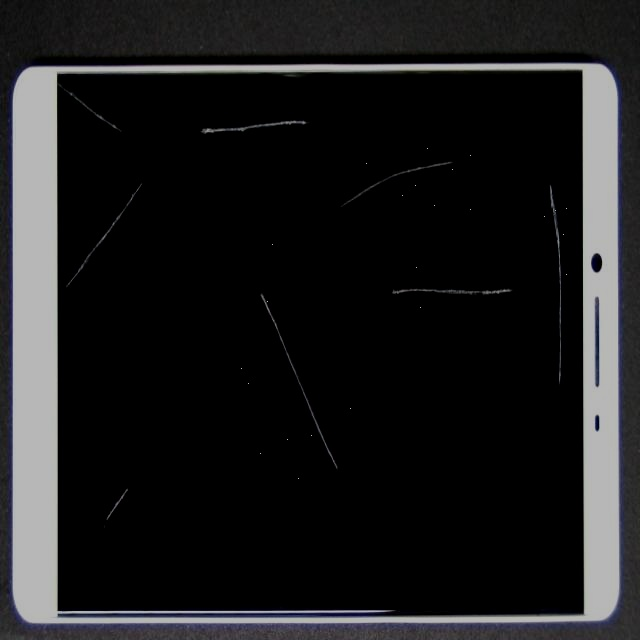scratch: (72, 39, 410, 538), (266, 0, 640, 377), (187, 159, 573, 478), (163, 112, 491, 337), (35, 245, 140, 640)
